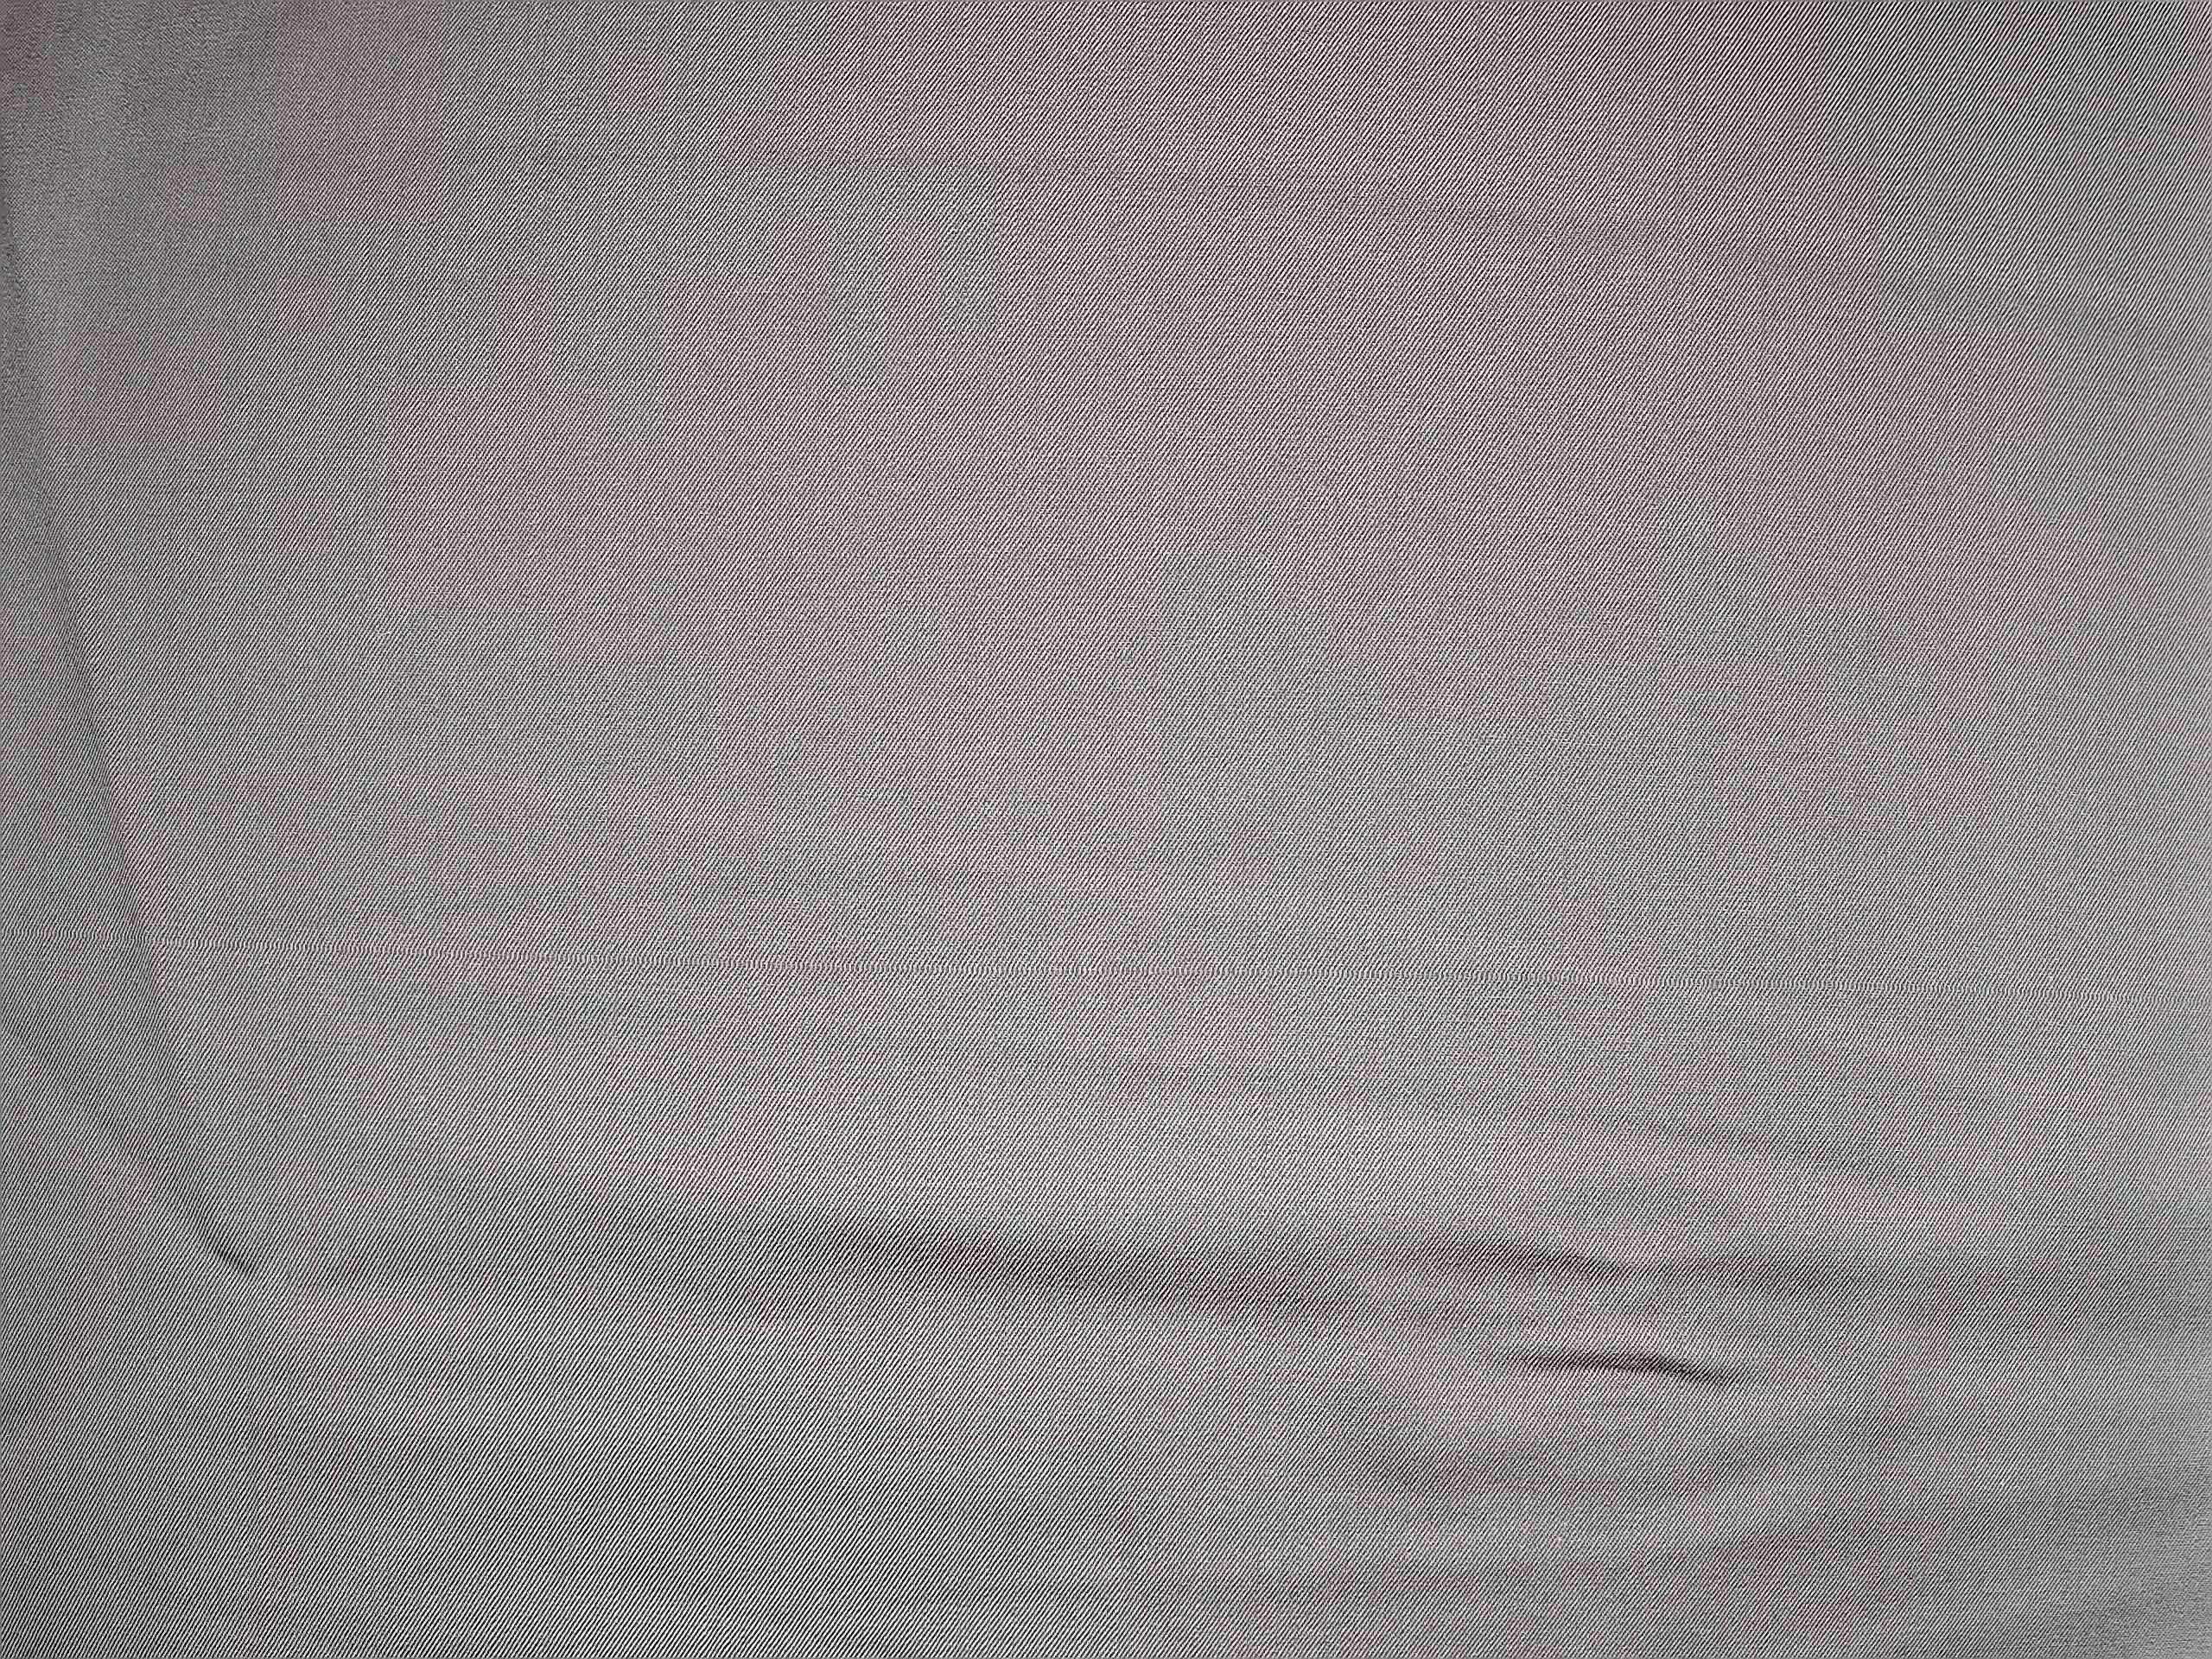others: (9, 890, 2198, 1025)
